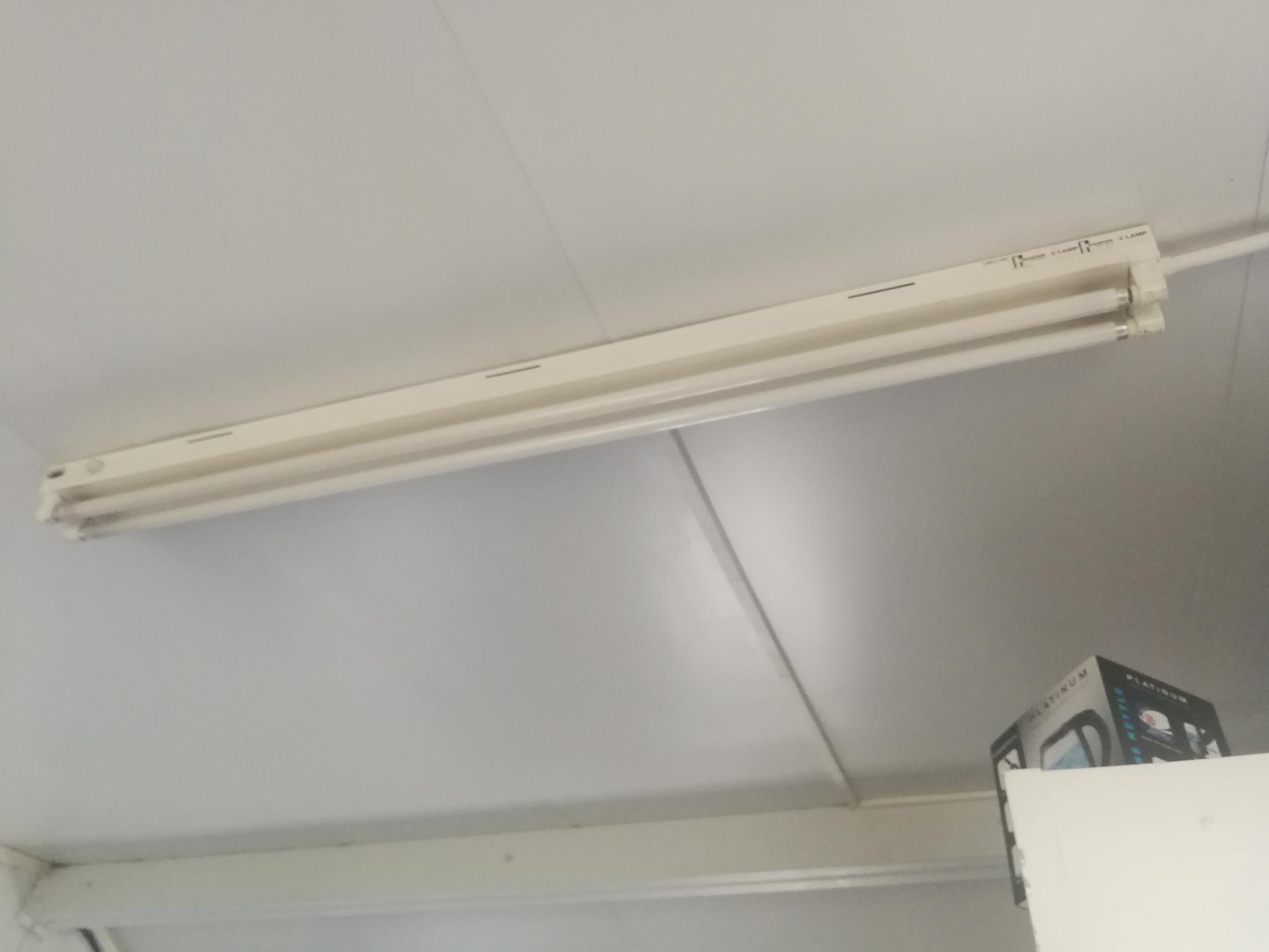light: (35, 219, 1171, 543)
